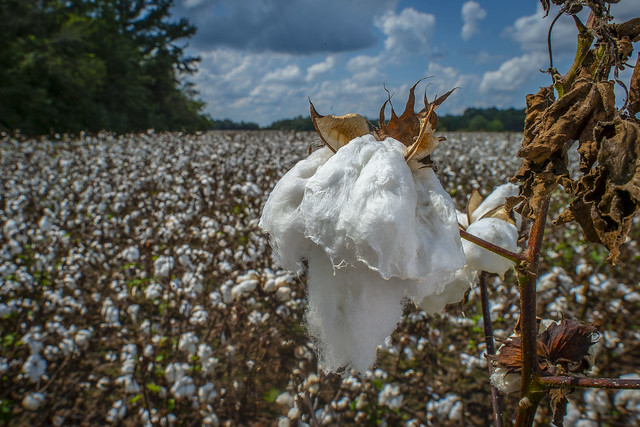cotton: (253, 111, 519, 381), (15, 133, 241, 419)
